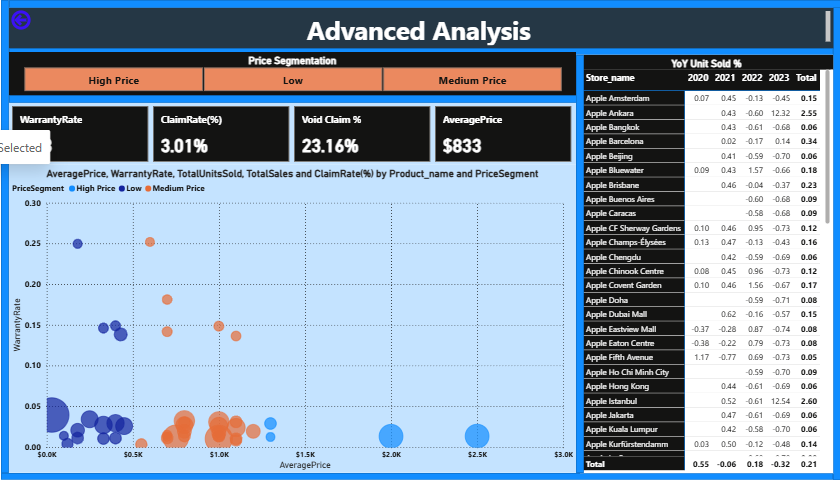

This screenshot's page, from the dashboard's own definition file:
{"tool":"powerbi","page":{"name":"Advanced Analysis","canvas":[1400,800],"ordinal":3},"visuals":[{"type":"shape","box":[0,788.5,1386.9,11.5],"z":0},{"type":"shape","box":[13.1,0,1386.9,13.1],"z":1000},{"type":"shape","box":[1386.9,11.5,13.1,788.5],"z":2000},{"type":"shape","box":[0,0,13.1,788.5],"z":3000},{"type":"shape","box":[13.1,80.3,1373.8,11.5],"z":4000},{"type":"shape","box":[13.3,158.3,958.3,13.3],"z":5000},{"type":"textbox","box":[13.1,13.1,1373.8,67.2],"z":6000},{"type":"scatterChart","fields":{"Category":["Products.Product_name"],"Y":["Warranty.WarrantyRate"],"X":["Sales.AveragePrice"],"Size":["Sales.TotalUnitsSold"],"Series":["Products.PriceSegment"]},"box":[13.3,275,945,513.3],"z":7000},{"type":"pivotTable","title":"YoY Unit Sold %","fields":{"Columns":["Datetable.Date.Variation.Date Hierarchy.Year"],"Values":["Sales.YoYGrowth%"],"Rows":["Stores.Store_name"]},"box":[965,91.7,421.7,696.7],"z":8000},{"type":"shape","box":[958.3,91.7,13.3,696.7],"z":9000},{"type":"slicer","title":"Price Segmentation","fields":{"Values":["Products.PriceSegment"]},"box":[13.3,86.7,945,71.7],"z":10000},{"type":"cardVisual","fields":{"Data":["Warranty.WarrantyRate","Warranty.ClaimRate(%)","Warranty.Void Claim %","Sales.AveragePrice"]},"box":[13.3,171.7,945,103.3],"z":11000},{"type":"actionButton","box":[13.3,13.3,100,40],"z":12000}]}

Visuals, with their boxes in screenshot pixels (x1, y1, x2, y2), scaled from the page's 1400x800 canvas onto the 840x481 screenshot:
shape: {"x1": 0, "y1": 474, "x2": 832, "y2": 480}
shape: {"x1": 8, "y1": 0, "x2": 839, "y2": 8}
shape: {"x1": 832, "y1": 7, "x2": 839, "y2": 480}
shape: {"x1": 0, "y1": 0, "x2": 8, "y2": 474}
shape: {"x1": 8, "y1": 48, "x2": 832, "y2": 55}
shape: {"x1": 8, "y1": 95, "x2": 583, "y2": 103}
textbox: {"x1": 8, "y1": 8, "x2": 832, "y2": 48}
scatterChart - Products.Product_name x Warranty.WarrantyRate: {"x1": 8, "y1": 165, "x2": 575, "y2": 474}
"YoY Unit Sold %" pivotTable: {"x1": 579, "y1": 55, "x2": 832, "y2": 474}
shape: {"x1": 575, "y1": 55, "x2": 583, "y2": 474}
"Price Segmentation" slicer: {"x1": 8, "y1": 52, "x2": 575, "y2": 95}
cardVisual - Warranty.WarrantyRate x Warranty.ClaimRate(%): {"x1": 8, "y1": 103, "x2": 575, "y2": 165}
actionButton: {"x1": 8, "y1": 8, "x2": 68, "y2": 32}
